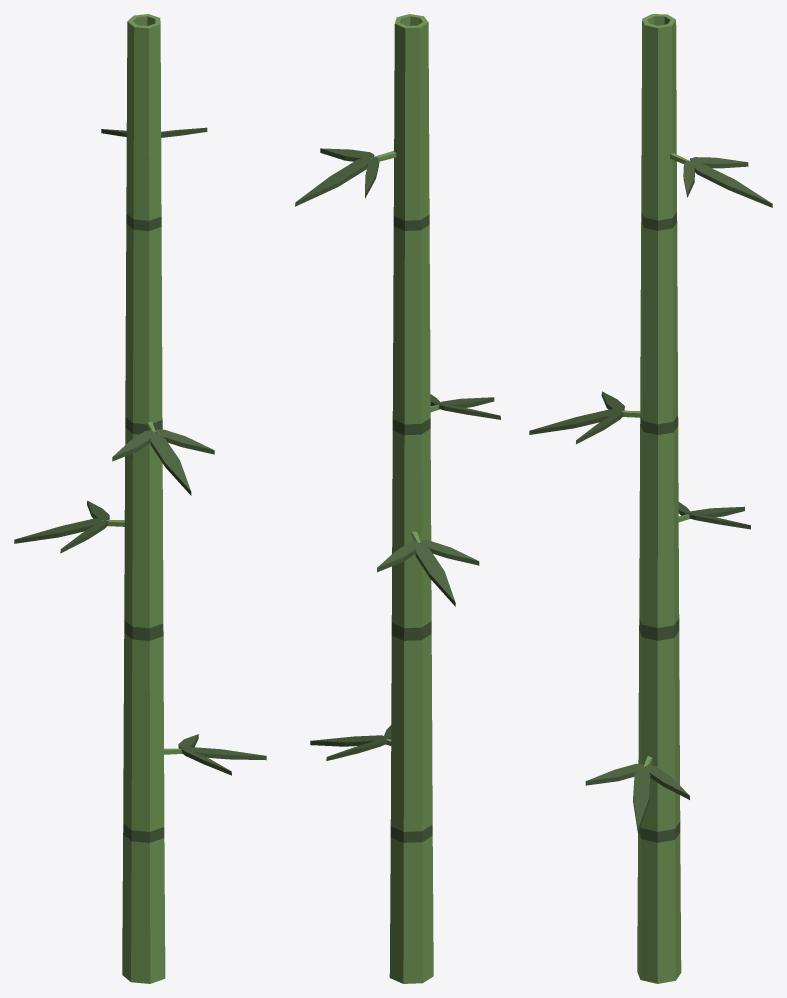
File: bamboo_3.gltf
3 renders of one model, left to right at view 1: azimuth 30°, elevation 25°; view 2: azimuth 150°, elevation 25°; view 3: azimuth 270°, elevation 25°, orthographic.
Visible parts, largest first — view 1: bamboo_3; view 2: bamboo_3; view 3: bamboo_3.
Part boxes in pixels (bbox=[...]): bamboo_3: bbox=[14, 14, 266, 983]; bamboo_3: bbox=[295, 14, 500, 983]; bamboo_3: bbox=[529, 14, 772, 983].
Size of the model in its own units: 0.3381 by 1.55 by 0.358.
1 material, 1 textured.
